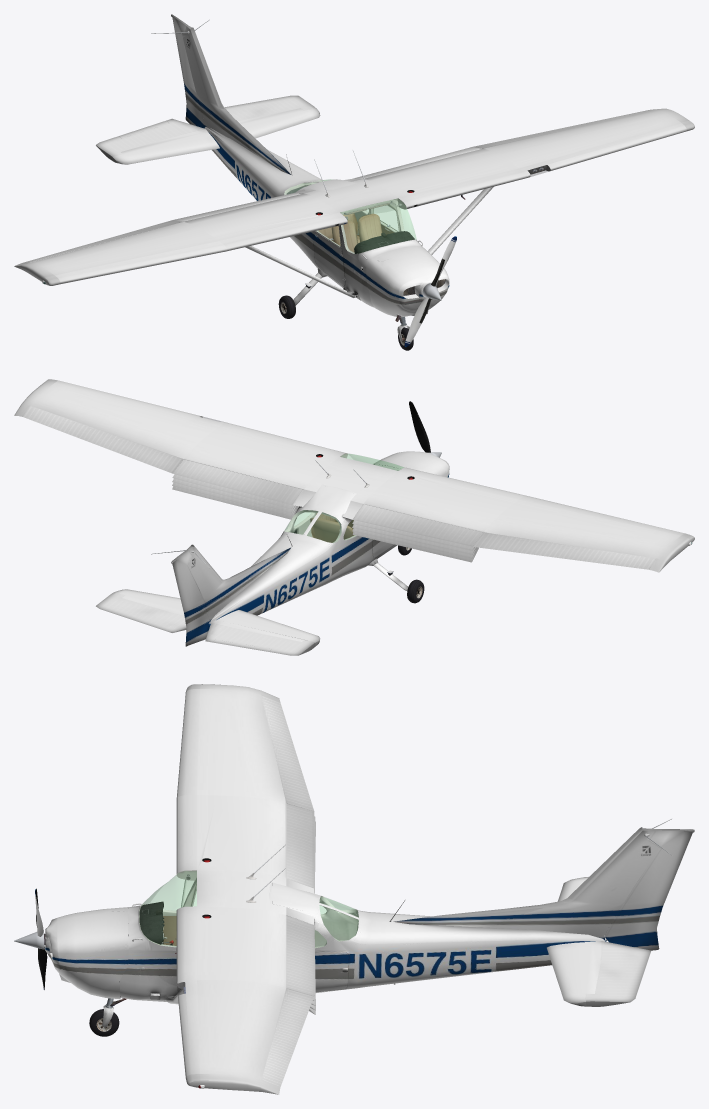
The picture shows the model from 3 angles, top to bottom: view 1: azimuth 30°, elevation 25°; view 2: azimuth 150°, elevation 25°; view 3: azimuth 270°, elevation 25°; orthographic projection. The views are drawn at different scales.
Parts seen in each view (by area): view 1: Exterior, Pose_flaps_0; view 2: Exterior, Pose_flaps_0, Pose_flaps_1, Pose_flaps_2, Pose_flaps_3, Pose_flaps_4; view 3: Exterior, Pose_flaps_0.
Boxes of the visible parts, x1,y1,x2,y2 form: Exterior: (14, 14, 694, 350); Pose_flaps_0: (173, 147, 482, 221); Exterior: (14, 379, 694, 655); Pose_flaps_0: (173, 459, 483, 546); Pose_flaps_1: (172, 474, 474, 550); Pose_flaps_2: (172, 478, 476, 554); Pose_flaps_3: (172, 482, 477, 558); Pose_flaps_4: (172, 486, 478, 562); Exterior: (14, 684, 694, 1094); Pose_flaps_0: (286, 803, 314, 995).
Bounding box in the file's own units: 11.32 × 2.77 × 8.17.
Materials: 145 (135 with a texture image).
